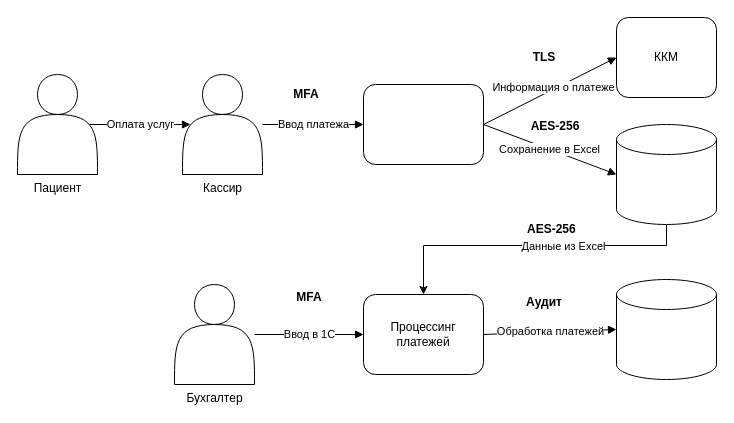
This 734x423 diagram has some shape labels left out. The box of each missing label's shape, as (x1, y1, x2, y2) in pixels:
1С: Бухгалтерия: (616, 278, 716, 380)
Excel: Учёт платежей: (616, 124, 716, 224)
Приём оплаты: (362, 84, 484, 164)
